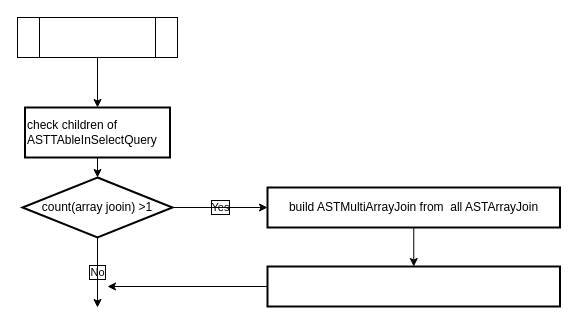
This 578x333 diagram has some shape labels left out. The centre of each missing label's shape, as x and y in pixels:
"ParseMultiArrayJoin" goes at [97,37].
"update ASTArrayJoin with single ASTMultiArryJoin" goes at [413,286].
